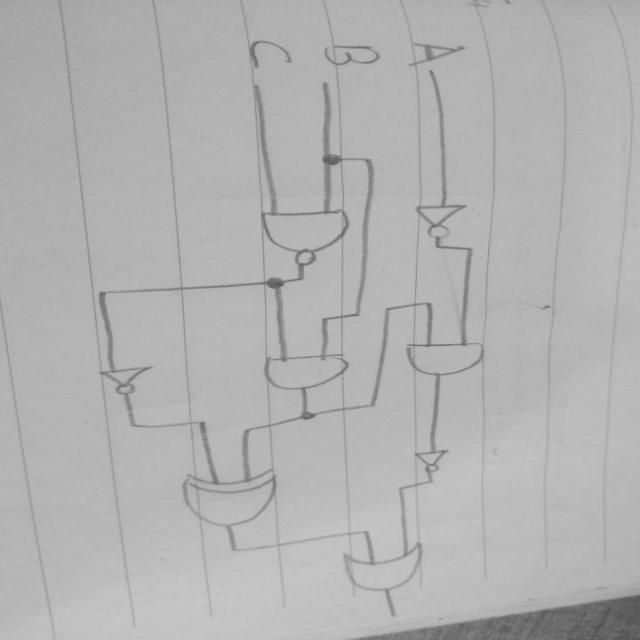AND: (253, 348, 362, 398), (398, 335, 504, 383)
NAND: (253, 200, 351, 269)
NOT: (74, 354, 168, 397), (393, 197, 478, 240), (396, 445, 468, 479)
OR: (331, 542, 449, 598)
XOR: (164, 464, 308, 534)
